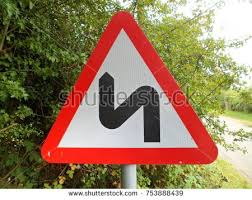Double_bend_left: (21, 7, 235, 172)
